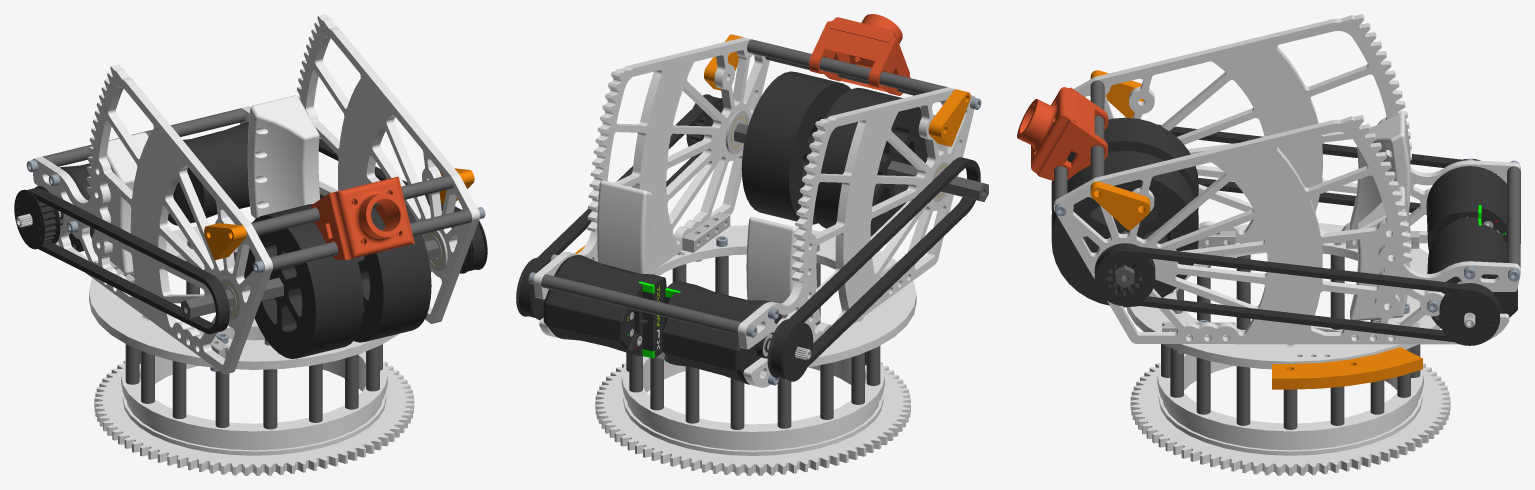
3 renders of one model, left to right at view 1: azimuth 30°, elevation 25°; view 2: azimuth 150°, elevation 25°; view 3: azimuth 270°, elevation 25°, orthographic.
Visible parts, largest first — view 1: Shooter Plate (×2), 4" Solid Urethane Wheel (45A, 1.5" Wide, 1/2" Hex Bore) (×2), 85T 10DP Gear, Shooter Guide, 120T 5M 9mm Wide Belt (×2), Top Turret Plate, ROUND Spacer 2.25 in (×8), Camera Case, ROUND Spacer 6.25 in (×3), Bottom Turret Plate, Kraken X60 Brushless Motor <1>, 3/8" Middle Plate (+7 smaller); view 2: Shooter Plate (×2), 4" Solid Urethane Wheel (45A, 1.5" Wide, 1/2" Hex Bore) (×2), 120T 5M 9mm Wide Belt (×2), 85T 10DP Gear, Kraken X60 Brushless Motor <1>, Kraken X60 Brushless Motor <2>, ROUND Spacer 2.25 in (×9), Top Turret Plate, ROUND Spacer 6.25 in (×2), Camera Case, Bottom Turret Plate, Shooter Guide (+9 smaller); view 3: Shooter Plate (×2), 4" Solid Urethane Wheel (45A, 1.5" Wide, 1/2" Hex Bore) (×2), 120T 5M 9mm Wide Belt (×2), 85T 10DP Gear, Top Turret Plate, Camera Case, Bottom Turret Plate, ROUND Spacer 2.25 in (×7), Kraken X60 Brushless Motor <2>, fuck me, Kraken X60 Brushless Motor <1>, Shooter Guide Right (+7 smaller).
Part boxes in pixels (<box>): Shooter Plate (×2): <box>32,14,480,374</box>; 4" Solid Urethane Wheel (45A, 1.5" Wide, 1/2" Hex Bore) (×2): <box>244,203,431,358</box>; 85T 10DP Gear: <box>94,360,414,475</box>; Shooter Guide: <box>247,95,320,218</box>; 120T 5M 9mm Wide Belt (×2): <box>27,138,484,334</box>; Top Turret Plate: <box>89,222,398,369</box>; ROUND Spacer 2.25 in (×8): <box>125,344,379,429</box>; Camera Case: <box>310,176,414,260</box>; ROUND Spacer 6.25 in (×3): <box>42,108,472,270</box>; Bottom Turret Plate: <box>121,318,387,439</box>; Kraken X60 Brushless Motor <1>: <box>168,121,249,225</box>; 3/8" Middle Plate: <box>124,335,384,450</box>; Shooter Plate (×2): <box>533,37,975,387</box>; 4" Solid Urethane Wheel (45A, 1.5" Wide, 1/2" Hex Bore) (×2): <box>741,71,927,236</box>; 120T 5M 9mm Wide Belt (×2): <box>519,96,980,379</box>; 85T 10DP Gear: <box>595,361,910,475</box>; Kraken X60 Brushless Motor <1>: <box>543,255,666,358</box>; Kraken X60 Brushless Motor <2>: <box>662,281,811,384</box>; ROUND Spacer 2.25 in (×9): <box>629,255,880,429</box>; Top Turret Plate: <box>651,225,916,367</box>; ROUND Spacer 6.25 in (×2): <box>541,39,947,334</box>; Camera Case: <box>809,14,910,95</box>; Bottom Turret Plate: <box>621,356,884,440</box>; Shooter Guide: <box>597,180,651,274</box>; Shooter Plate (×2): <box>1053,14,1520,344</box>; 4" Solid Urethane Wheel (45A, 1.5" Wide, 1/2" Hex Bore) (×2): <box>1051,117,1198,307</box>; 120T 5M 9mm Wide Belt (×2): <box>1095,124,1498,341</box>; 85T 10DP Gear: <box>1130,362,1450,475</box>; Top Turret Plate: <box>1126,222,1440,369</box>; Camera Case: <box>1017,87,1108,180</box>; Bottom Turret Plate: <box>1157,321,1423,439</box>; ROUND Spacer 2.25 in (×7): <box>1170,254,1344,429</box>; Kraken X60 Brushless Motor <2>: <box>1426,166,1506,251</box>; fuck me: <box>1272,347,1422,389</box>; Kraken X60 Brushless Motor <1>: <box>1427,217,1517,328</box>; Shooter Guide Right: <box>1350,112,1410,229</box>.
Bounding box in the file's own units: 0.263 × 0.2606 × 0.348.
